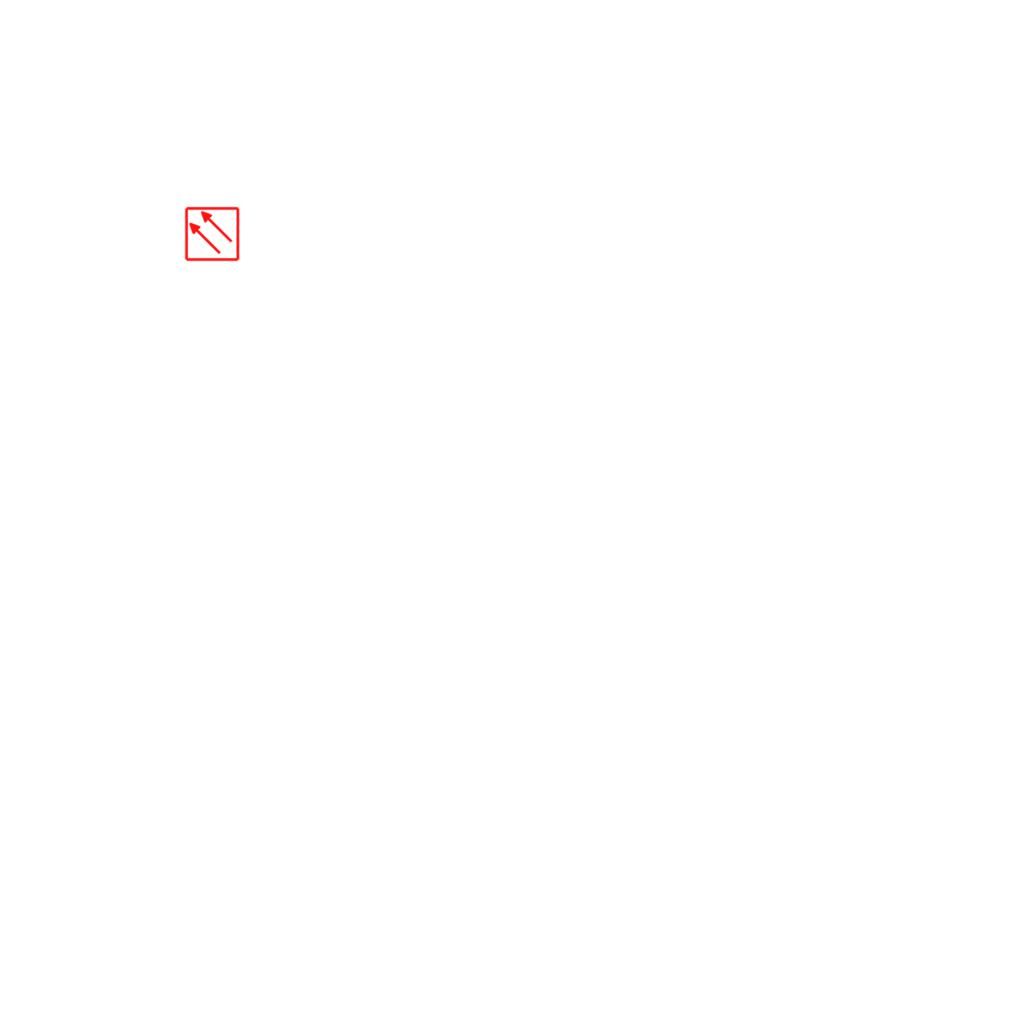RMO_Rauchmelder_optischer: (184, 206, 240, 262)
